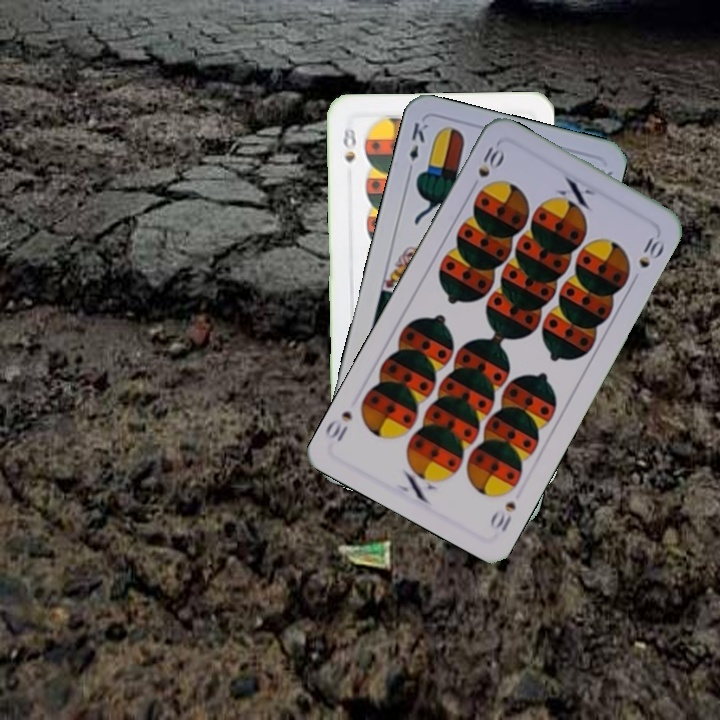EK: (403, 118, 431, 177)
S10: (473, 140, 508, 180), (486, 497, 519, 535)
S8: (338, 120, 359, 166)
